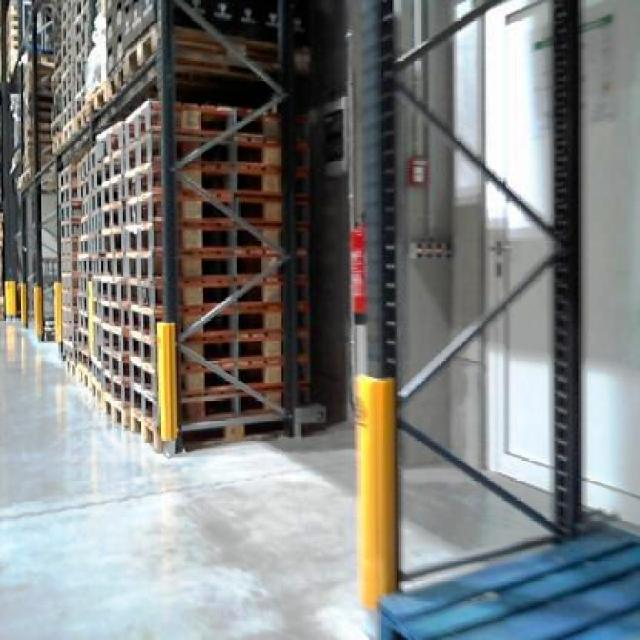ground: (0, 308, 638, 638)
pallet: (48, 2, 314, 455), (374, 520, 638, 638)
